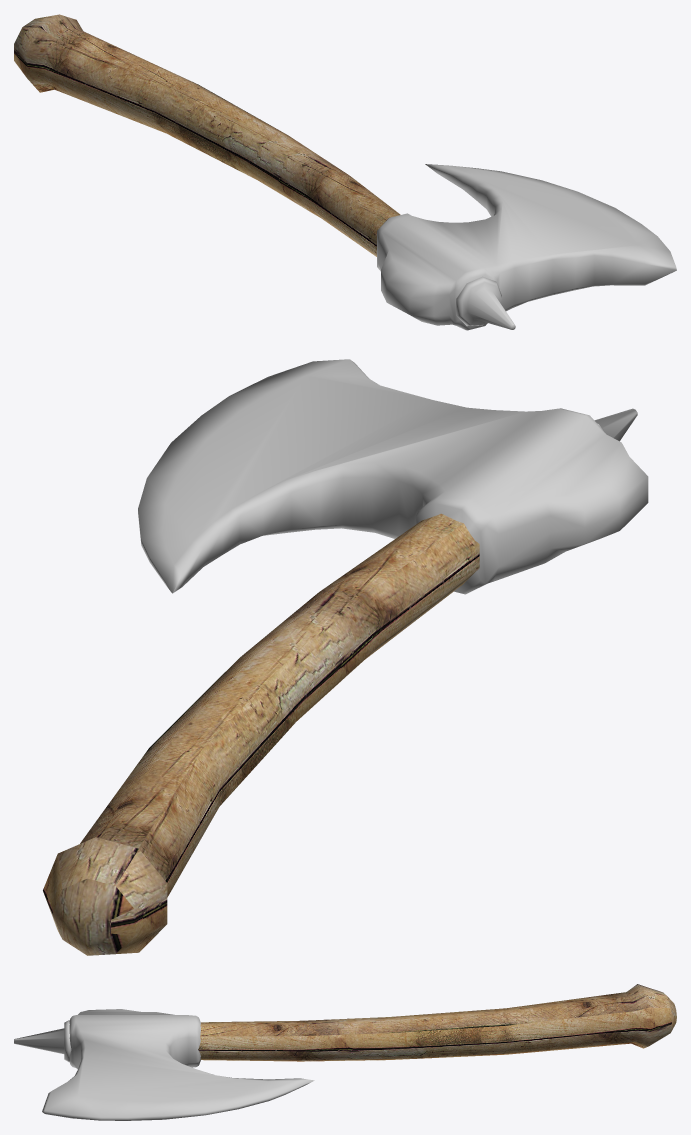
Rendered from 1h_axe.fbx.
3 renders of one model, top to bottom at view 1: azimuth 30°, elevation 25°; view 2: azimuth 150°, elevation 25°; view 3: azimuth 270°, elevation 25°, orthographic. The views are drawn at different scales.
Visible parts, largest first — view 1: object; view 2: object; view 3: object.
Part boxes in pixels (box(x1,y1,x2,y2)): object: box(14, 14, 676, 330); object: box(43, 359, 648, 955); object: box(14, 984, 676, 1120).
Bounding box in the file's own units: 69.69 × 16.7 × 170.
